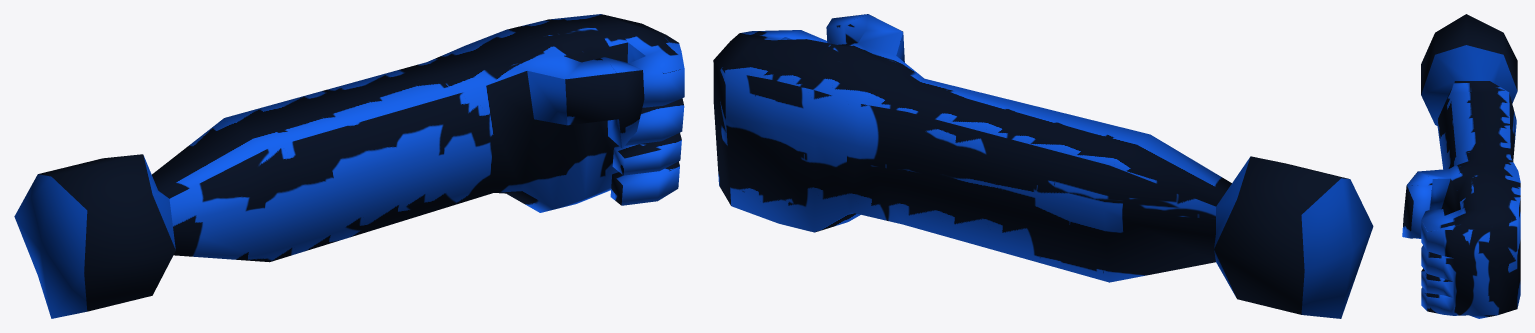
Rendered from arm1.fbx.
3 views of the same model, side by side, from view 1: azimuth 30°, elevation 25°; view 2: azimuth 150°, elevation 25°; view 3: azimuth 270°, elevation 25° (orthographic). The views are drawn at different scales.
Parts seen in each view (by area): view 1: pCube1; view 2: pCube1; view 3: pCube1.
Boxes of the visible parts, x1=… form: pCube1: x1=14, y1=14, x2=684, y2=318; pCube1: x1=713, y1=14, x2=1373, y2=318; pCube1: x1=1402, y1=14, x2=1520, y2=318.
Bounding box in the file's own units: 226 × 59.92 × 53.09.
